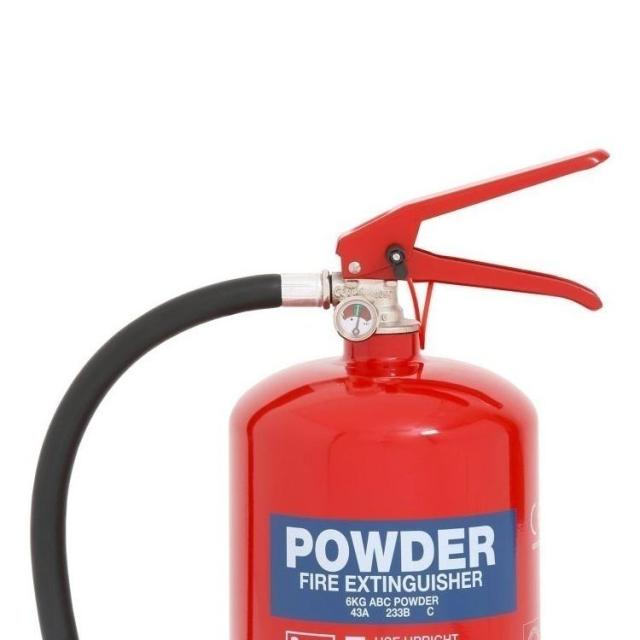fire_extinguisher: (25, 143, 612, 640)
